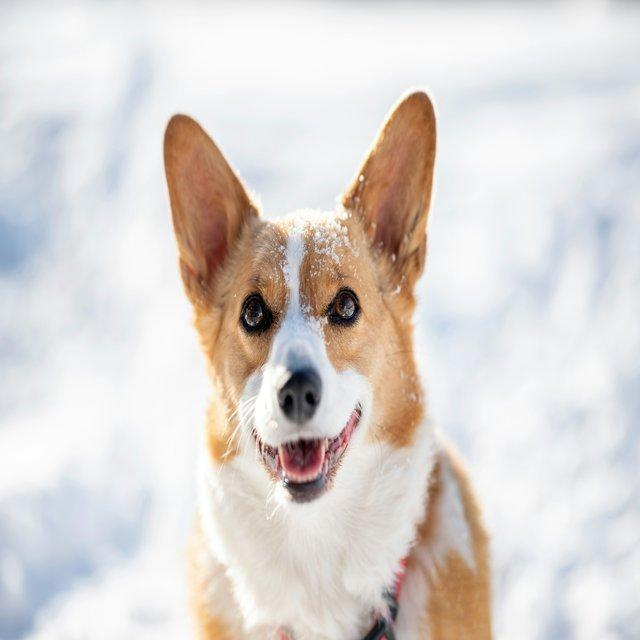corgi: (161, 88, 494, 639)
